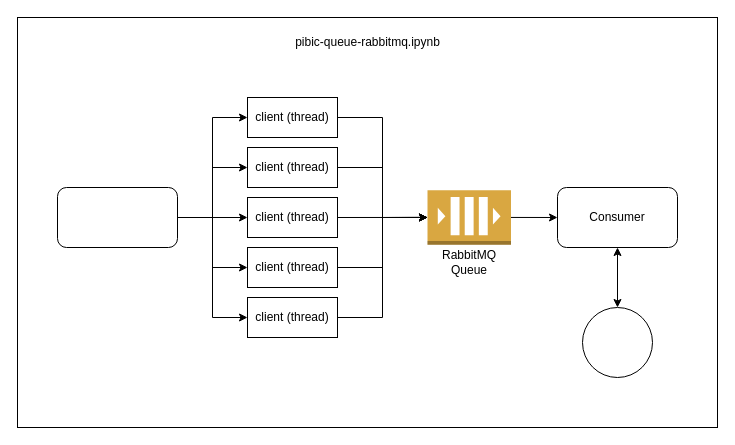
Image size: 735x445. Some labels were removed from this diagram. The shapes that lost their labels are listed below. From the top down, each one's centre as x and y in pixels, then its label:
[117,217]: Producer
[617,342]: LLM
